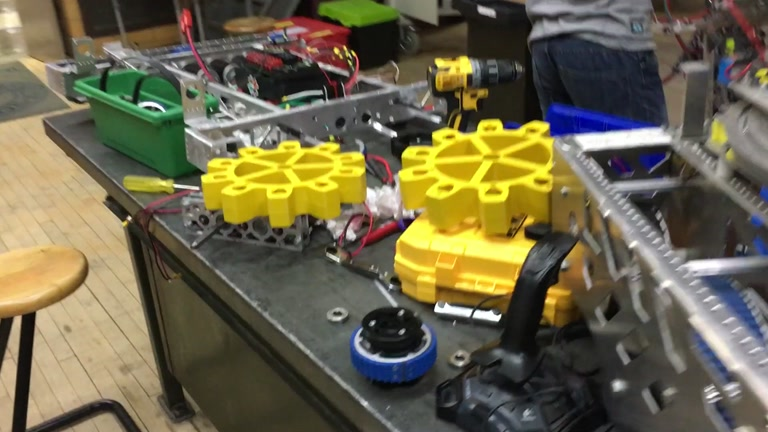gear: (396, 118, 588, 236), (201, 141, 367, 227)
